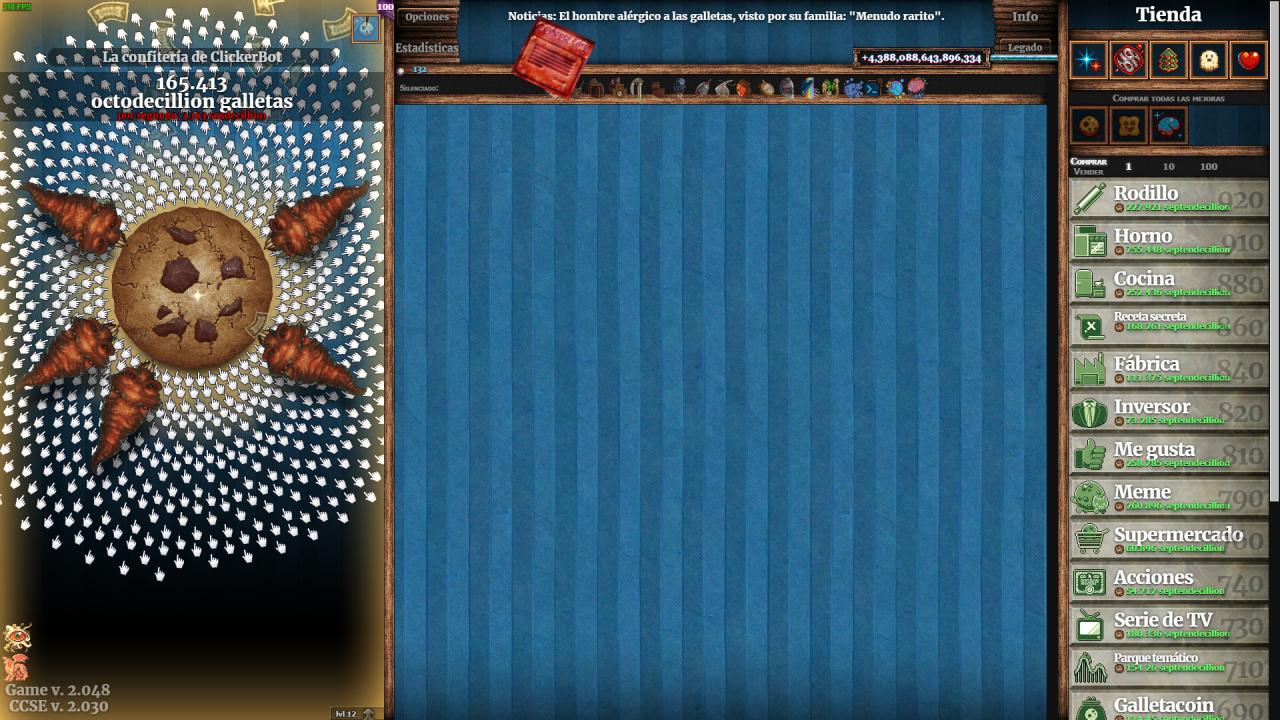RedCartridge: (510, 14, 598, 103)
